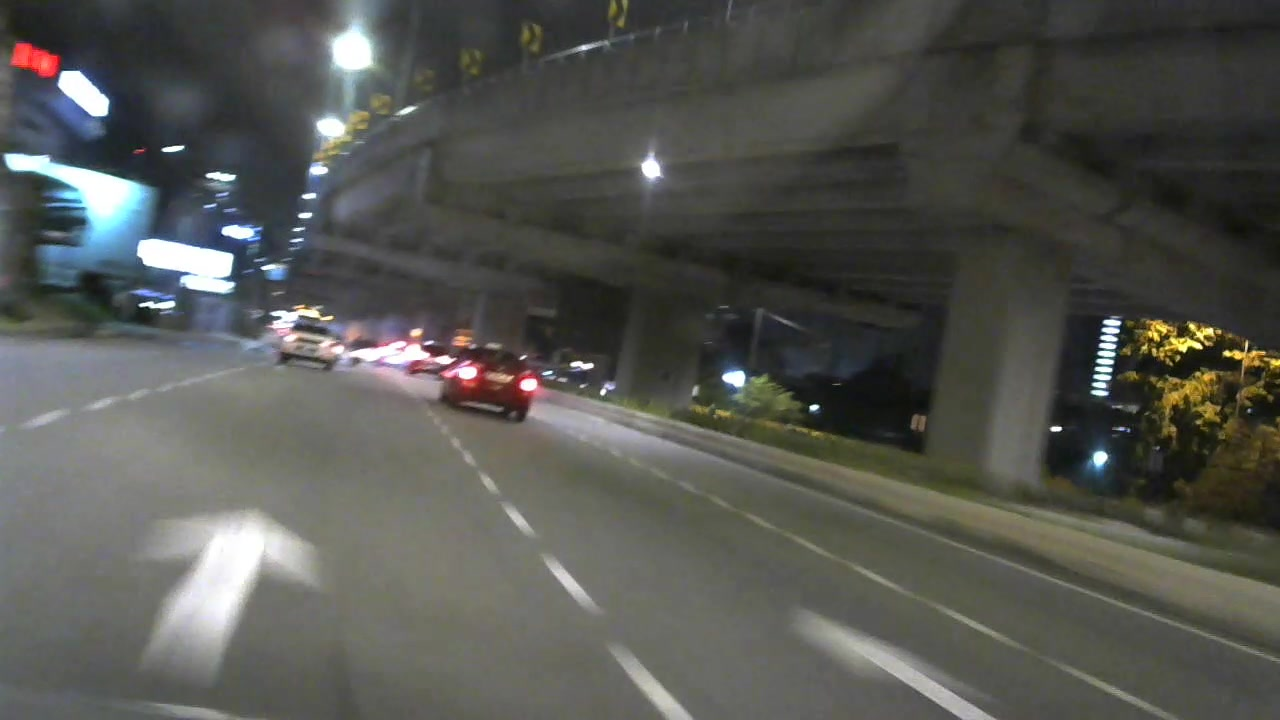Car: (444, 337, 535, 427), (276, 313, 343, 375), (403, 333, 454, 387)
